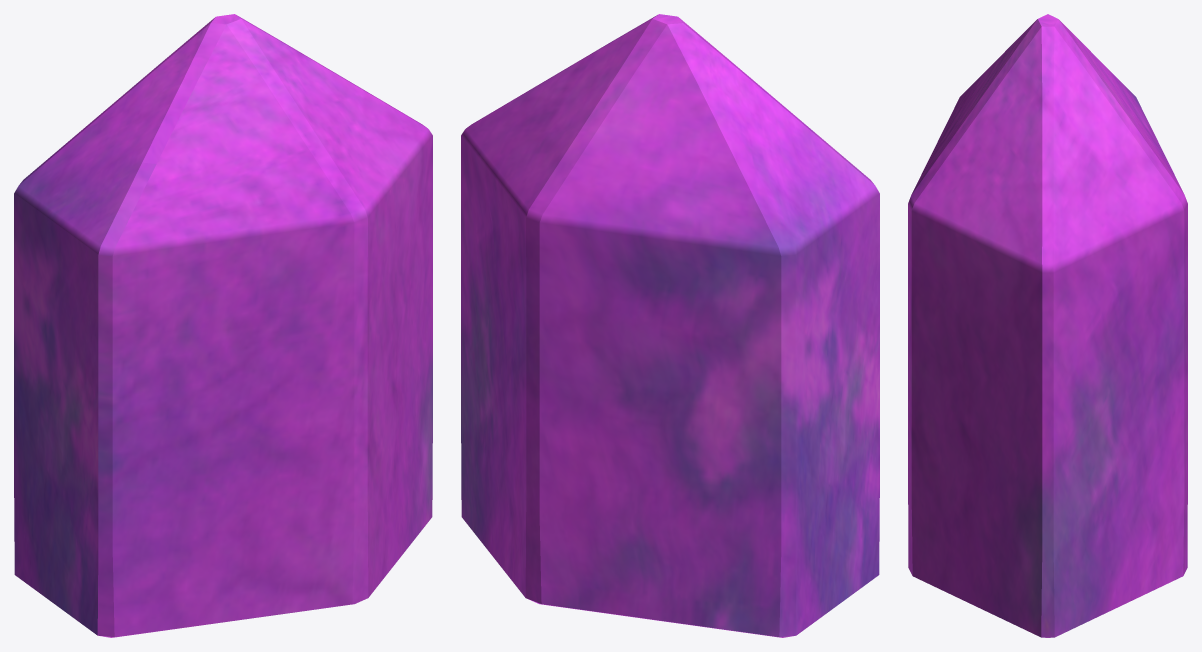
The model's file is Crystal2.fbx.
The picture shows the model from 3 angles, left to right: view 1: azimuth 30°, elevation 25°; view 2: azimuth 150°, elevation 25°; view 3: azimuth 270°, elevation 25°; orthographic projection. The views are drawn at different scales.
Parts seen in each view (by area): view 1: Cristal2; view 2: Cristal2; view 3: Cristal2.
Boxes of the visible parts, x1=… form: Cristal2: x1=14, y1=14, x2=432, y2=637; Cristal2: x1=461, y1=14, x2=879, y2=637; Cristal2: x1=908, y1=14, x2=1187, y2=637.
Bounding box in the file's own units: 2.79 × 3.92 × 1.89.
Materials: 1 (1 with a texture image).
